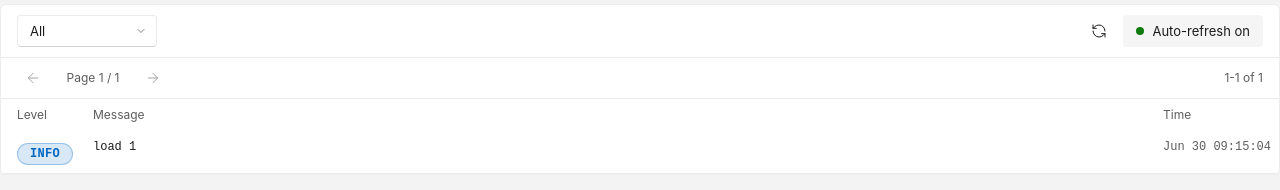
it: LogViewer › refetches when the refresh button is clicked
Expected: the text "load 1" is shown, [93, 140, 136, 154]
Click the button with test id "log-viewer-refresh" at (1099, 31), box [1083, 15, 1115, 47]
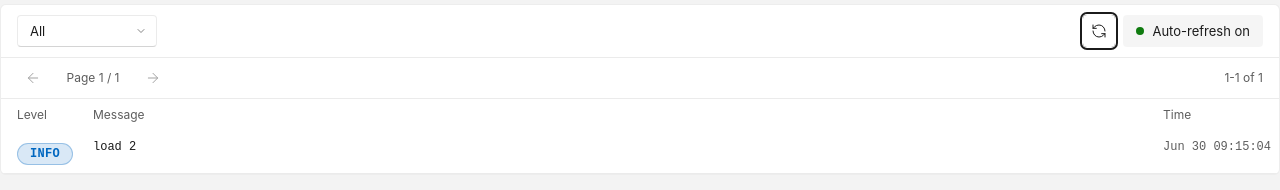
Now the text "load 2" is shown, box [93, 140, 136, 154]
